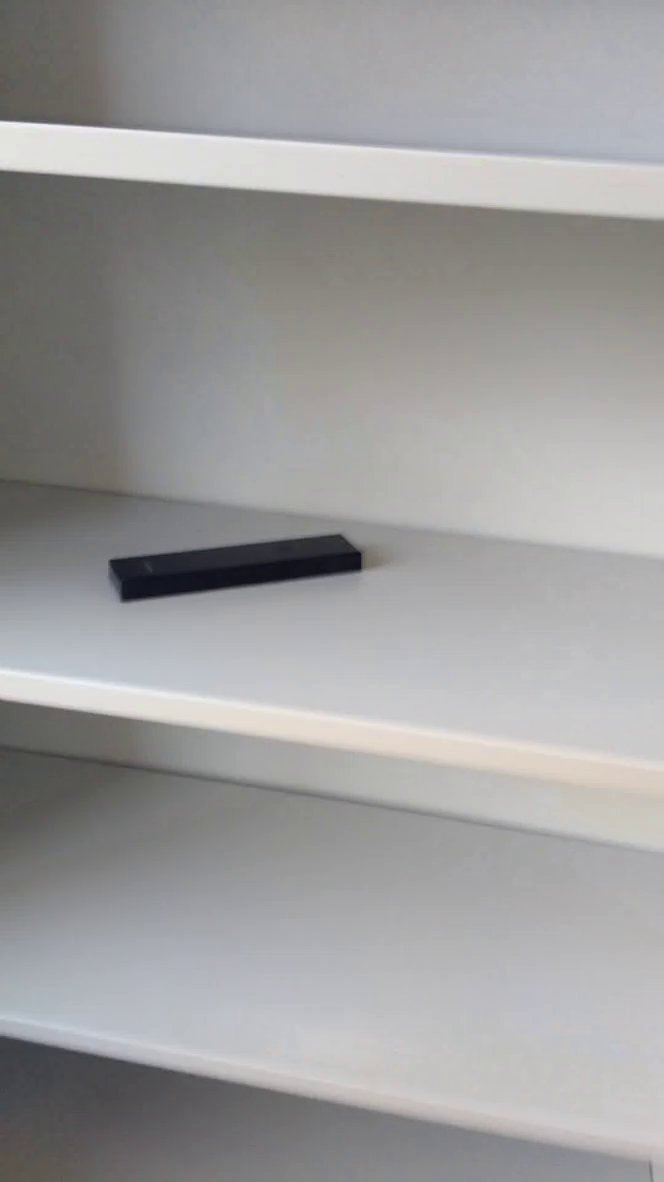remote: (99, 513, 377, 624)
